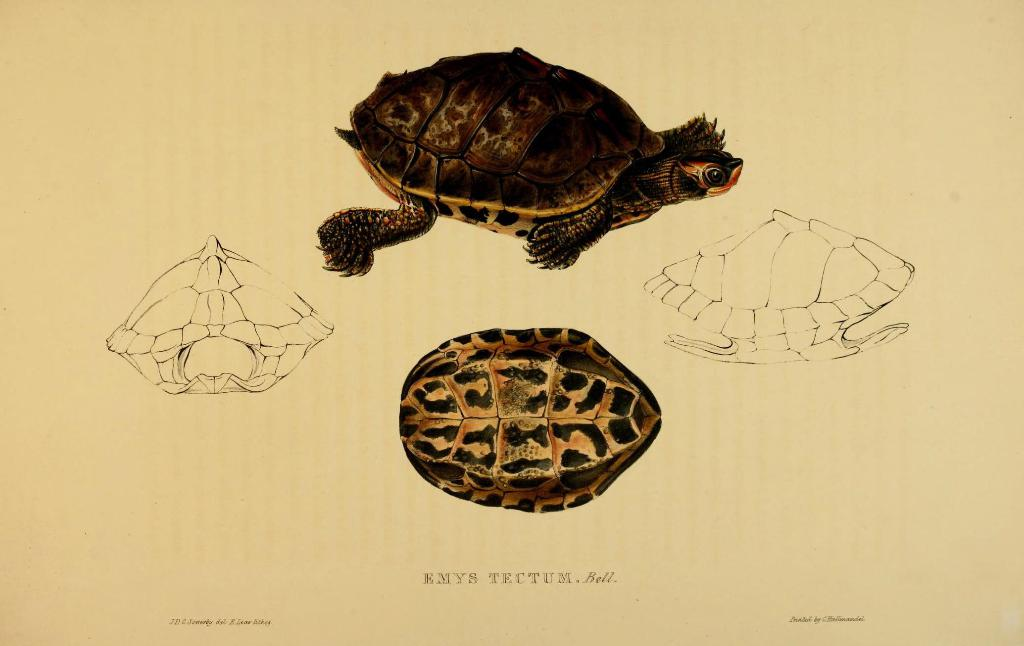Sea turtles: (310, 40, 757, 295)
